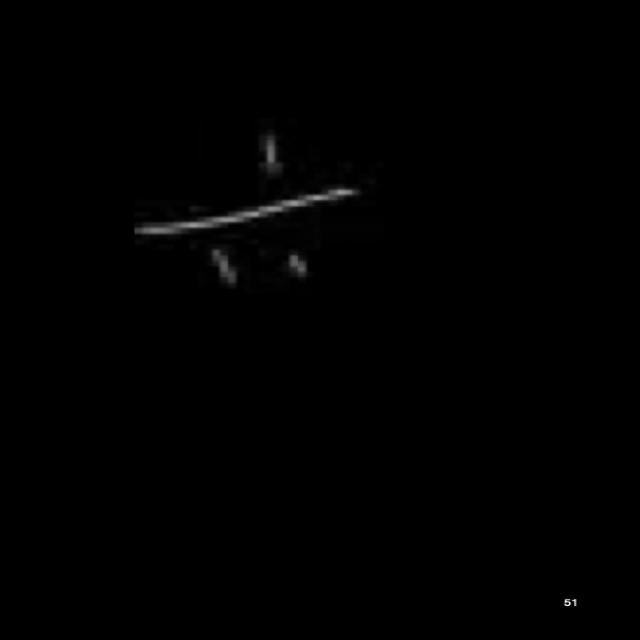6 -six-: (121, 133, 365, 301)
